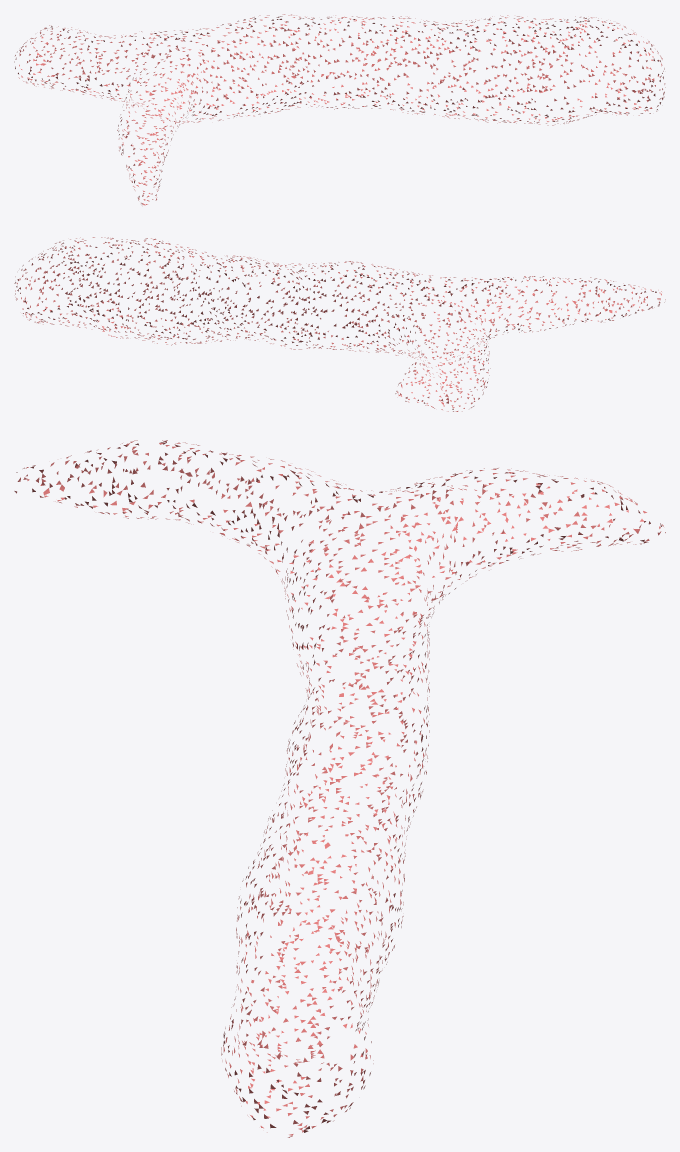
File: morph_000.glb
3 views of the same model, one above another, from view 1: azimuth 30°, elevation 25°; view 2: azimuth 150°, elevation 25°; view 3: azimuth 270°, elevation 25° (orthographic). The views are drawn at different scales.
Size of the model in its own units: 145 by 36.78 by 80.56.
